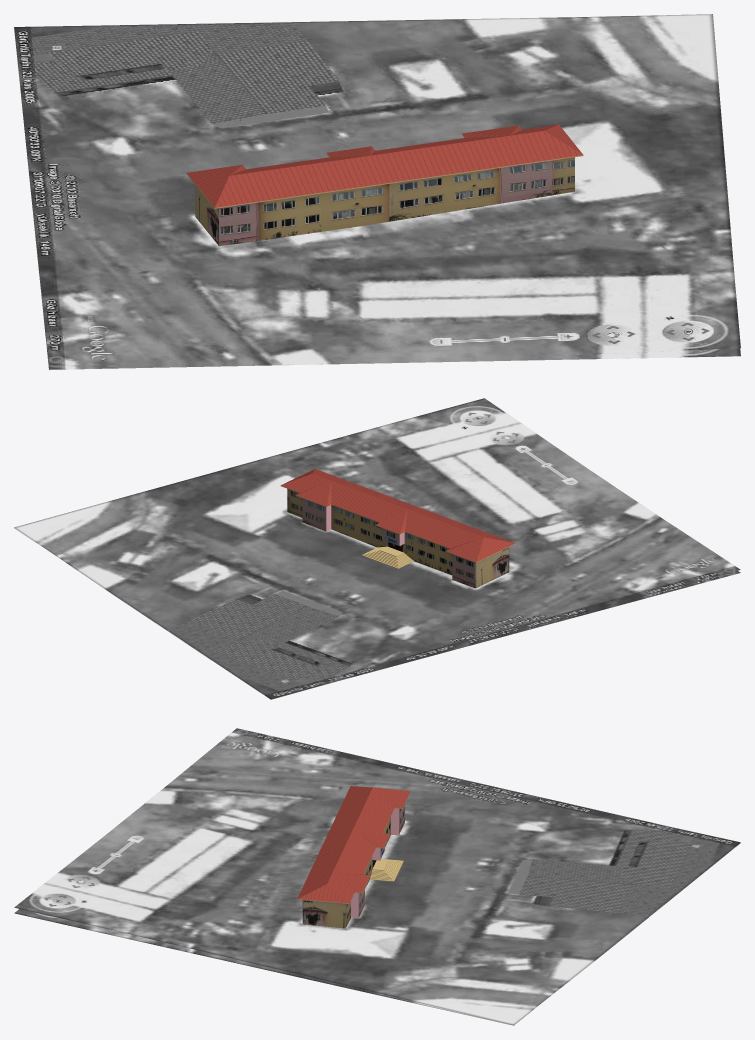
Rendered from trabzon_original.glb.
The picture shows the model from 3 angles, top to bottom: view 1: azimuth 30°, elevation 25°; view 2: azimuth 150°, elevation 25°; view 3: azimuth 270°, elevation 25°; orthographic projection. The views are drawn at different scales.
Parts seen in each view (by area): view 1: G-Google Earth Terrain, G-Google Earth Snapshot, _(Loose Entity); view 2: G-Google Earth Terrain, G-Google Earth Snapshot, _(Loose Entity); view 3: G-Google Earth Terrain, G-Google Earth Snapshot, _(Loose Entity).
Part boxes in pixels (<box>): G-Google Earth Terrain: <box>14,14,740,365</box>; G-Google Earth Snapshot: <box>14,17,740,369</box>; _(Loose Entity): <box>186,124,583,245</box>; G-Google Earth Terrain: <box>14,398,740,699</box>; G-Google Earth Snapshot: <box>14,528,740,698</box>; _(Loose Entity): <box>280,469,515,588</box>; G-Google Earth Terrain: <box>14,728,740,1025</box>; G-Google Earth Snapshot: <box>14,824,740,1025</box>; _(Loose Entity): <box>297,786,410,928</box>.
Size of the model in its own units: 175 by 10.86 by 182.
Materials: 10 (7 with a texture image).
